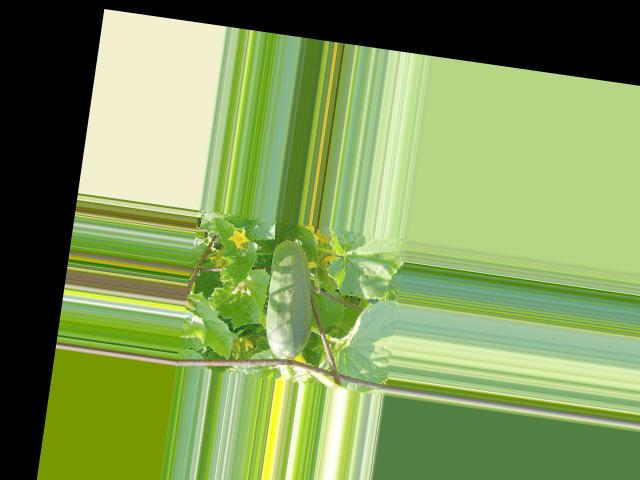cucumber: (258, 237, 325, 362)
